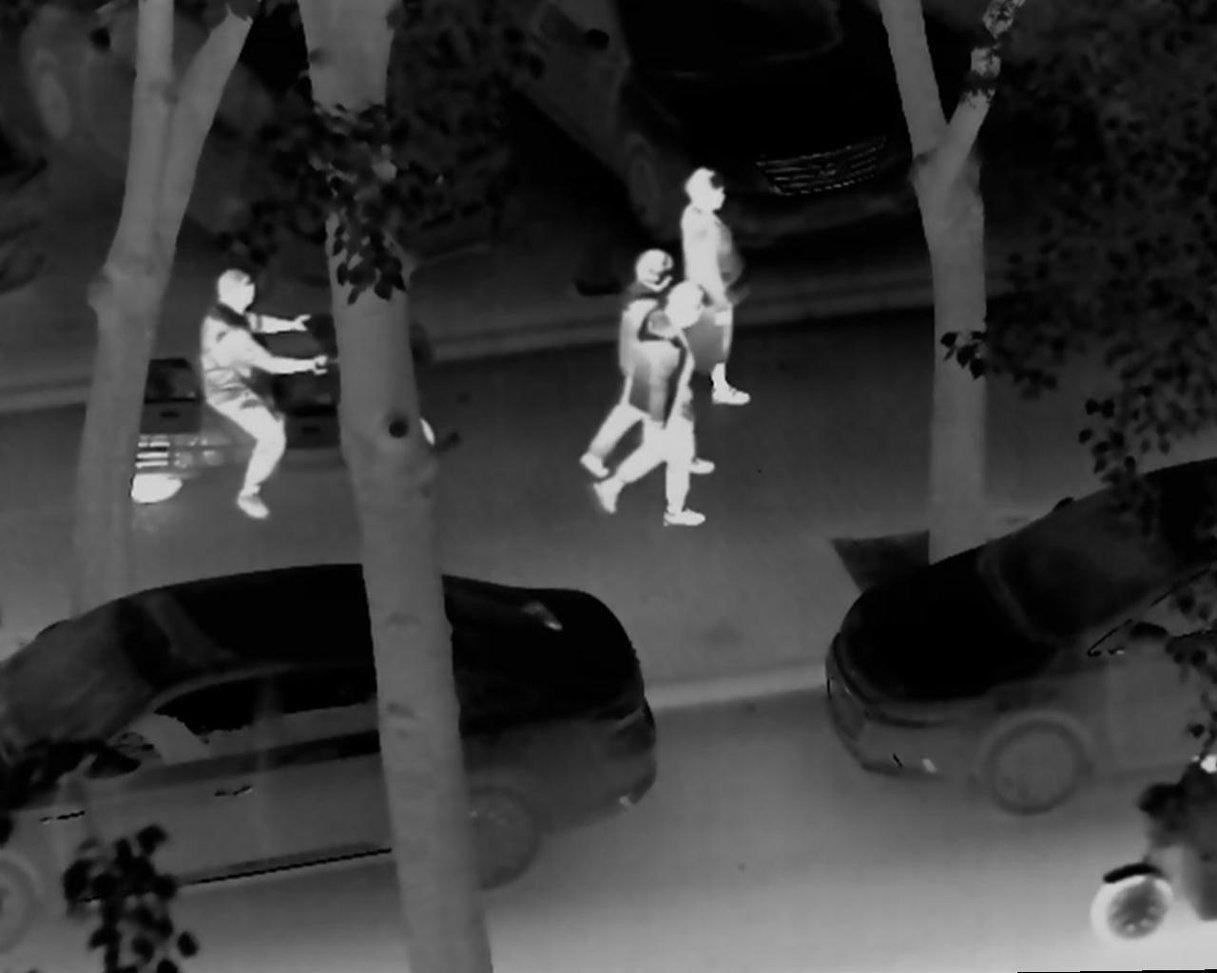person: (193, 251, 326, 524), (576, 244, 716, 485), (590, 280, 714, 534), (671, 161, 754, 408), (1180, 748, 1217, 772)
